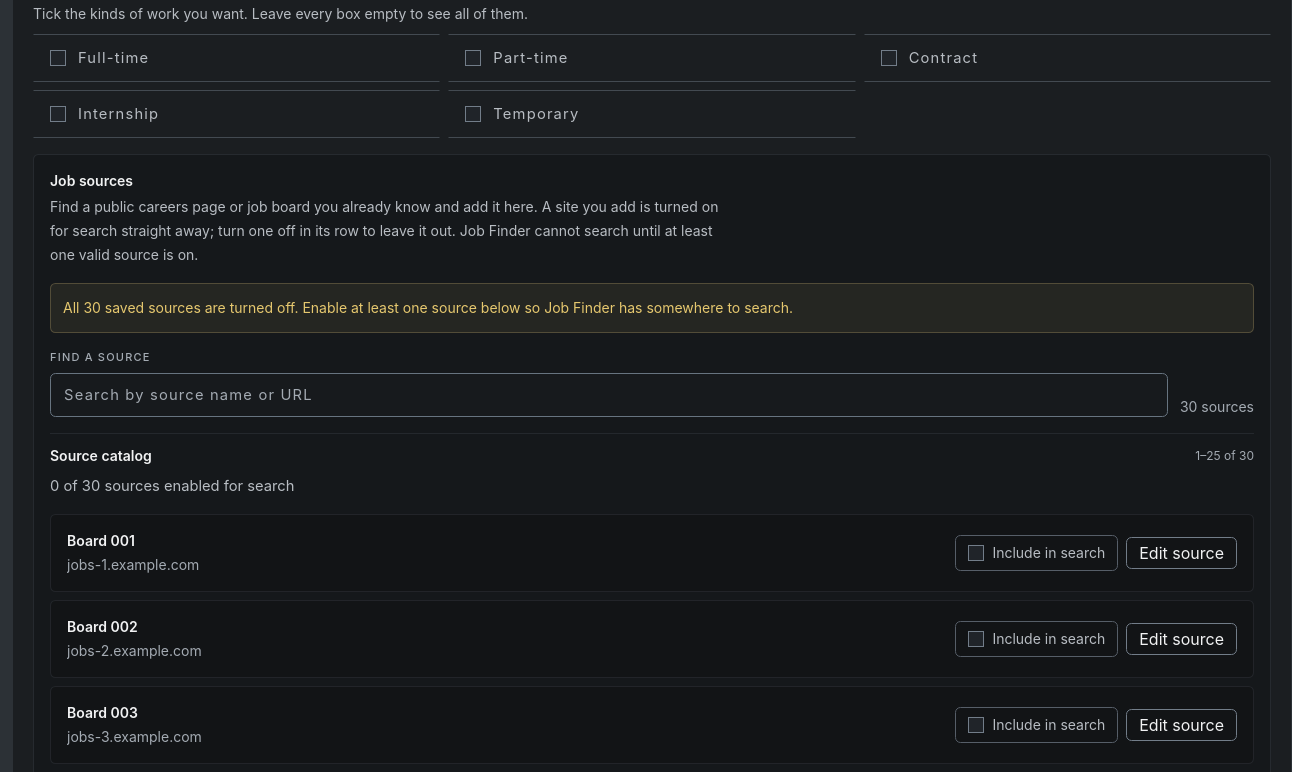
Test case: ProfileSetupTargetingStep guided source catalog › keeps every catalog entry disabled through search, paging, and editing
(page scrolled)
Expected: the text "0 of 30 sources enabled for search" is shown, [50, 477, 294, 495]
Type "board" into the search field labelled "Find a source" at (609, 395), box [50, 373, 1168, 417]
(page scrolled)
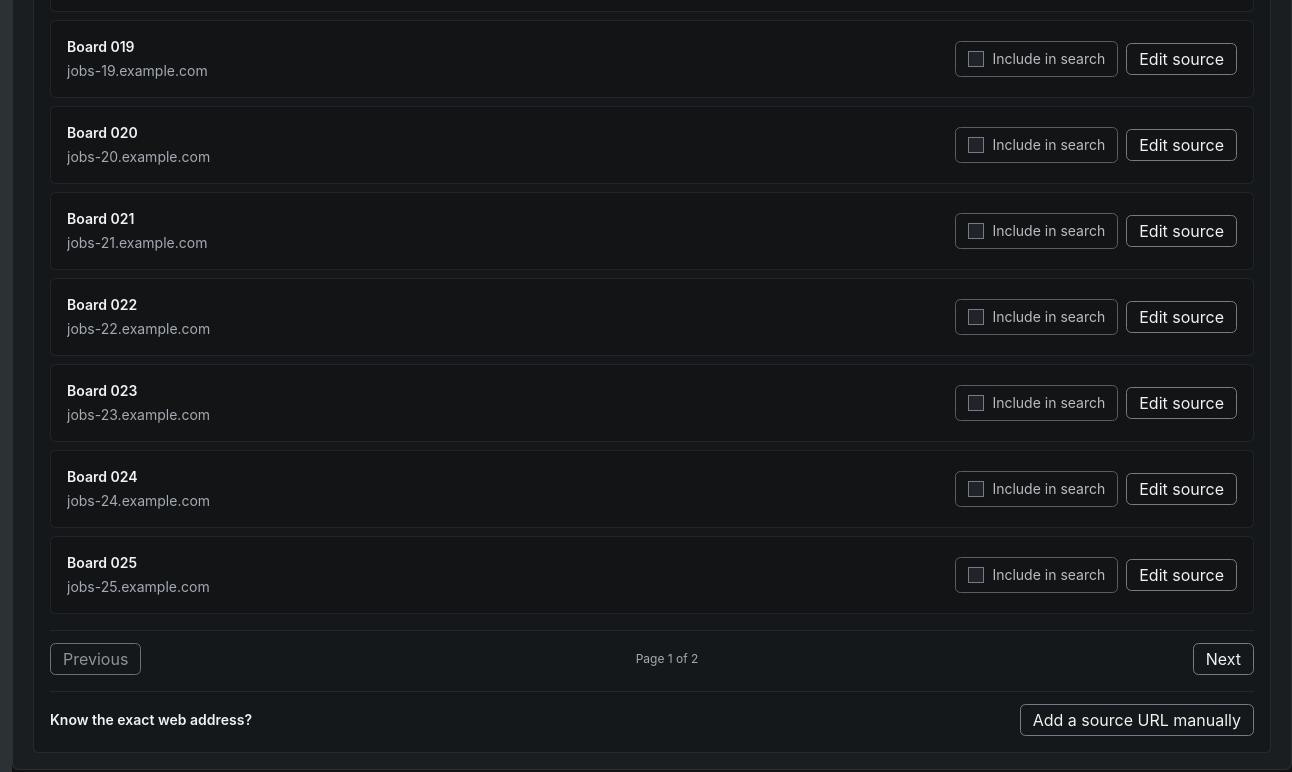
Click the button "Next" at (1223, 659), box [1193, 643, 1254, 675]
(page scrolled)
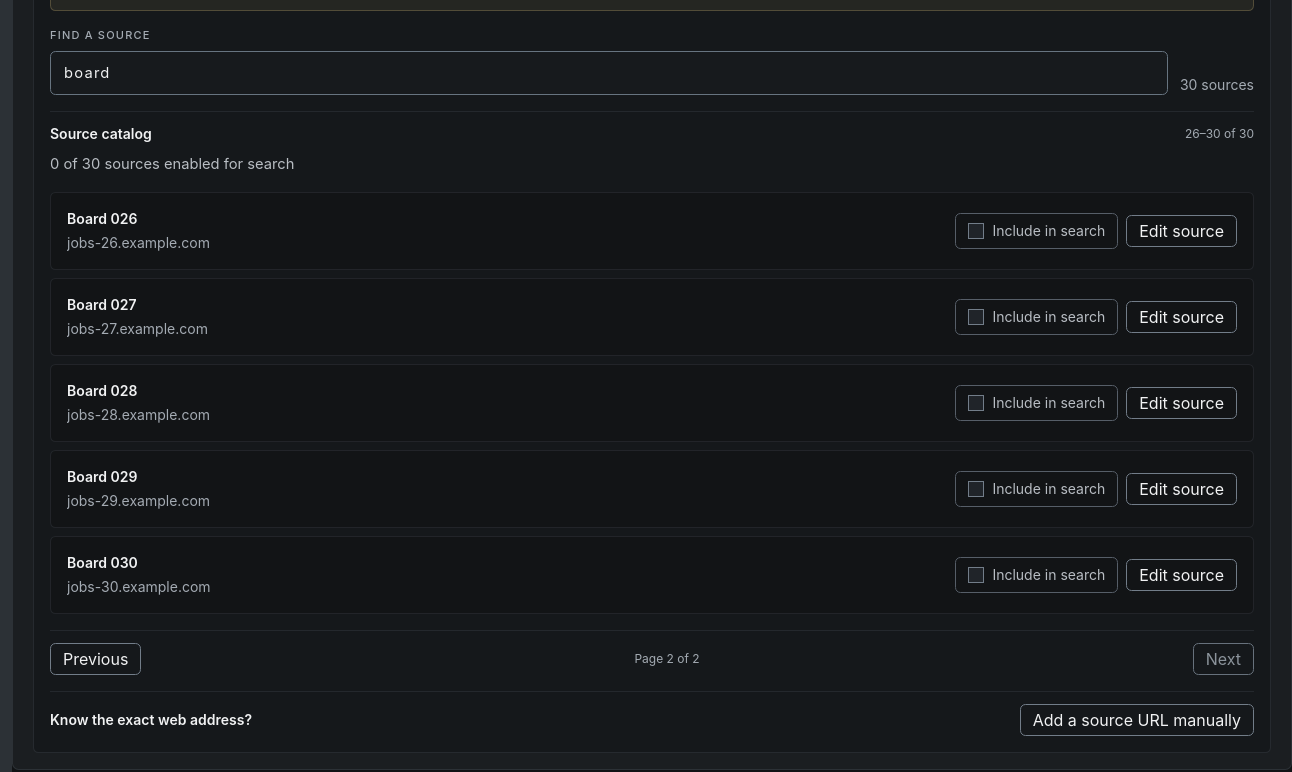
Expected: the text "0 of 30 sources enabled for search" is shown, [50, 155, 294, 173]
Click the button with aria-label "Edit Board 026" at (1182, 231), box [1126, 215, 1237, 247]
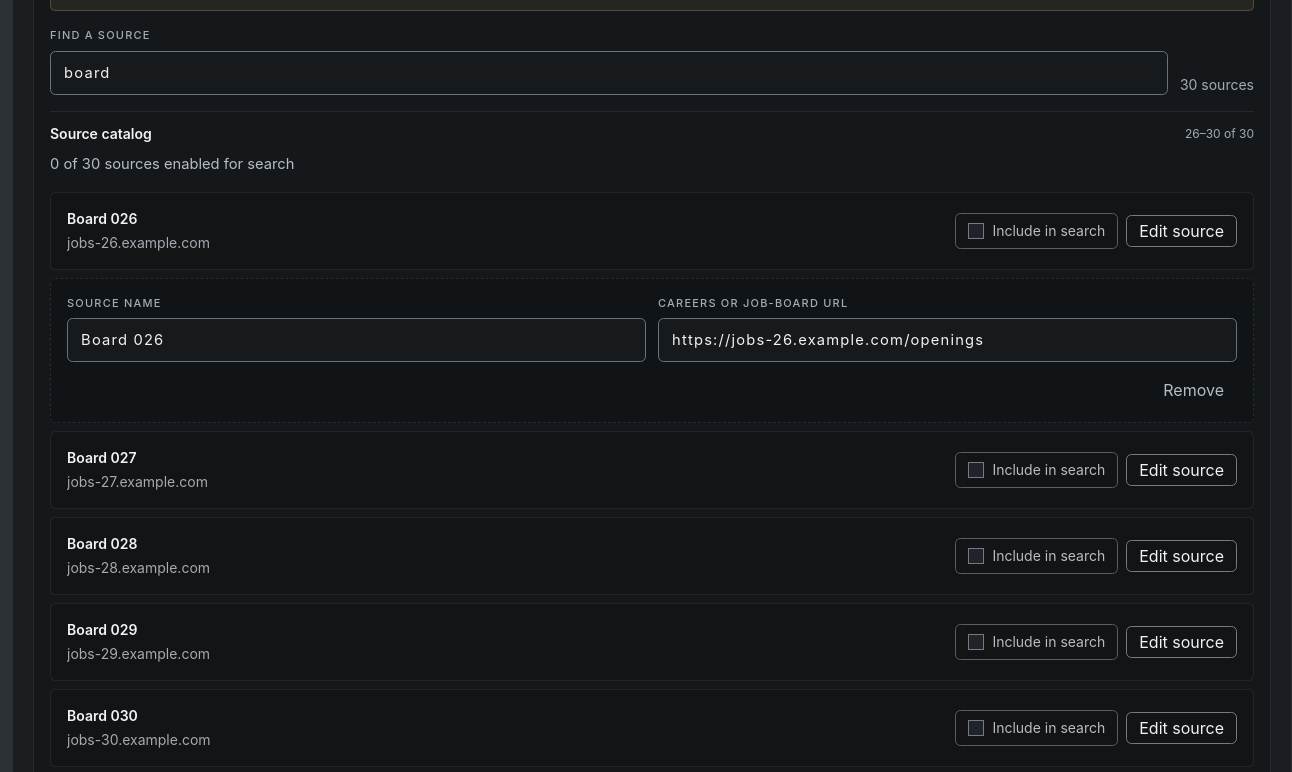
Expected: the text "0 of 30 sources enabled for search" is shown, [50, 155, 294, 173]
Now the field labelled "Careers or job-board URL" is shown, box [658, 318, 1237, 362]
